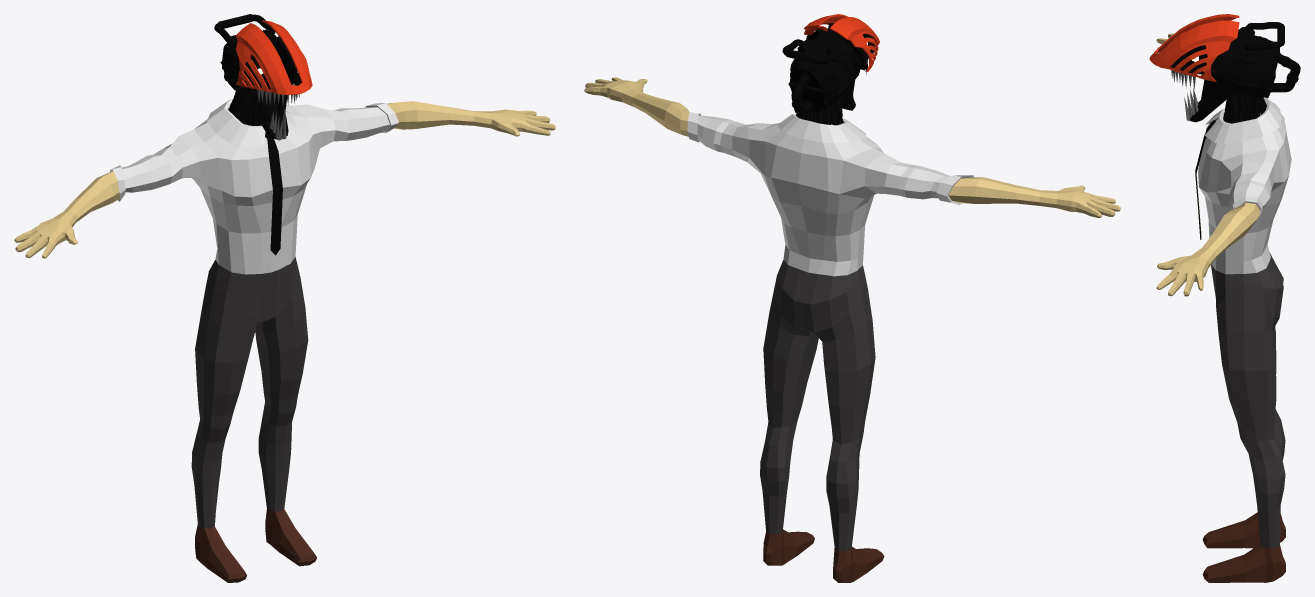
File: MyChiansawMan.fbx
3 views of the same model, side by side, from view 1: azimuth 30°, elevation 25°; view 2: azimuth 150°, elevation 25°; view 3: azimuth 270°, elevation 25° (orthographic).
Parts seen in each view (by area): view 1: CharacterModel.001, head2, head1; view 2: CharacterModel.001, head1, head2; view 3: CharacterModel.001, head1, head2, handle, teeth.
Part boxes in pixels (left/top/right/bottom): CharacterModel.001: left=14, top=89, right=555, bottom=582; head2: left=235, top=20, right=312, bottom=94; head1: left=214, top=14, right=301, bottom=138; CharacterModel.001: left=584, top=77, right=1120, bottom=582; head1: left=782, top=23, right=874, bottom=112; head2: left=804, top=14, right=879, bottom=71; CharacterModel.001: left=1156, top=33, right=1291, bottom=582; head1: left=1157, top=22, right=1284, bottom=122; head2: left=1149, top=14, right=1239, bottom=81; handle: left=1271, top=52, right=1300, bottom=92; teeth: left=1171, top=70, right=1198, bottom=120.
Size of the model in its own units: 661 by 641 by 162.
